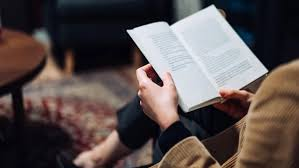Drinking: (115, 1, 299, 168)
